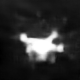plane: (19, 27, 65, 63)
